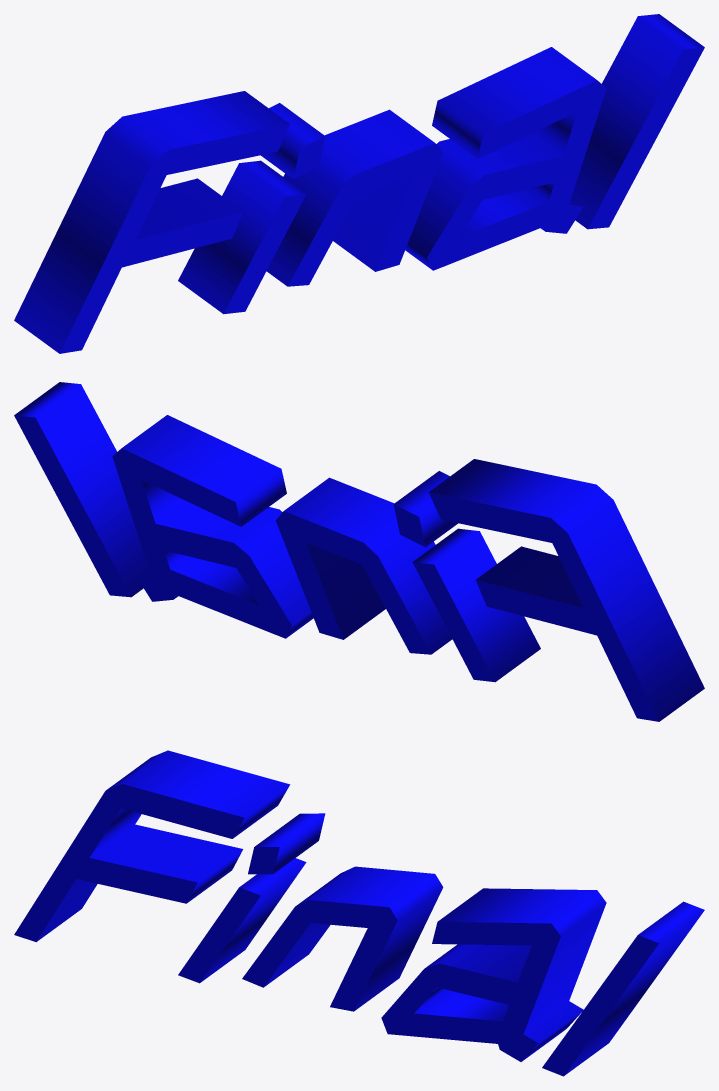
The picture shows the model from 3 angles, top to bottom: view 1: azimuth 30°, elevation 25°; view 2: azimuth 150°, elevation 25°; view 3: azimuth 330°, elevation 25°; orthographic projection.
Parts seen in each view (by area): view 1: Text; view 2: Text; view 3: Text.
Boxes of the visible parts, left/top/right/bottom form: Text: left=14, top=14, right=704, bottom=353; Text: left=14, top=382, right=704, bottom=721; Text: left=14, top=750, right=704, bottom=1076.
Size of the model in its own units: 3.67 by 1.01 by 0.45.
